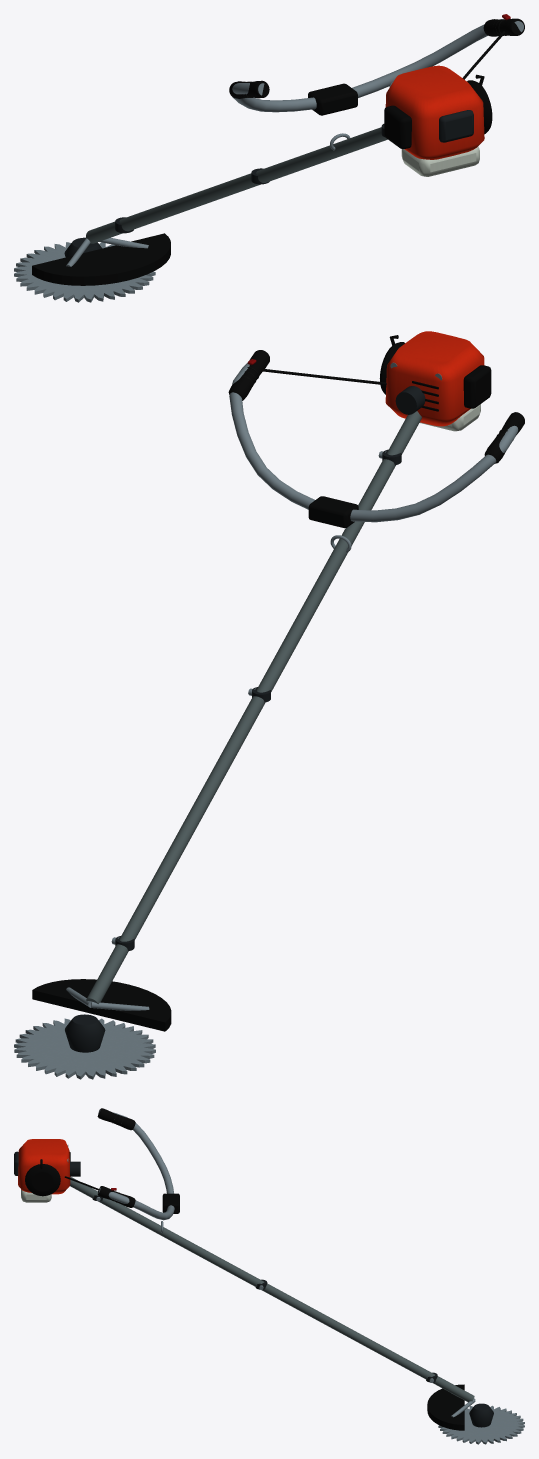
File: Brushcutter.gltf
The picture shows the model from 3 angles, top to bottom: view 1: azimuth 30°, elevation 25°; view 2: azimuth 150°, elevation 25°; view 3: azimuth 270°, elevation 25°; orthographic projection. The views are drawn at different scales.
Visible parts, largest first — view 1: Brushcutter__Body, Brushcutter__CutterRotor; view 2: Brushcutter__Body, Brushcutter__CutterRotor; view 3: Brushcutter__Body, Brushcutter__CutterRotor.
Boxes of the visible parts, x1=… form: Brushcutter__Body: x1=32, y1=14, x2=524, y2=285; Brushcutter__CutterRotor: x1=14, y1=242, x2=155, y2=302; Brushcutter__Body: x1=32, y1=331, x2=524, y2=1052; Brushcutter__CutterRotor: x1=14, y1=1018, x2=155, y2=1079; Brushcutter__Body: x1=14, y1=1108, x2=493, y2=1430; Brushcutter__CutterRotor: x1=438, y1=1405, x2=524, y2=1444.
Size of the model in its own units: 0.6942 by 1.1 by 1.8.
Materials: 1 (1 with a texture image).
